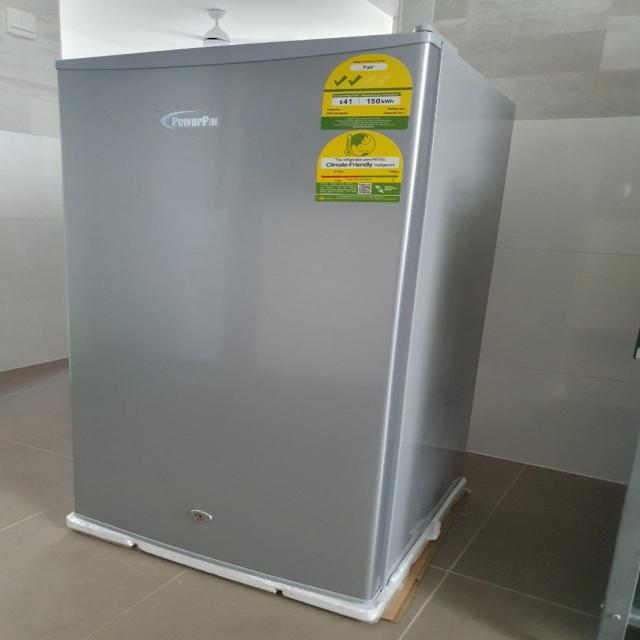refrigerator: (58, 27, 443, 608)
